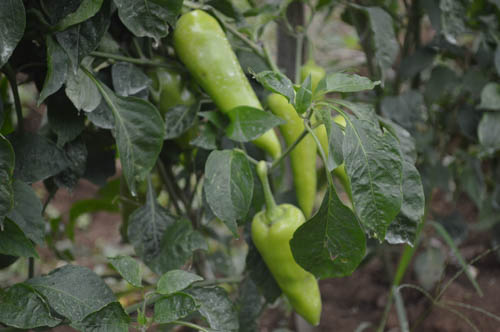ChiliPepper: (180, 12, 281, 160), (254, 211, 326, 317), (276, 93, 319, 218)
